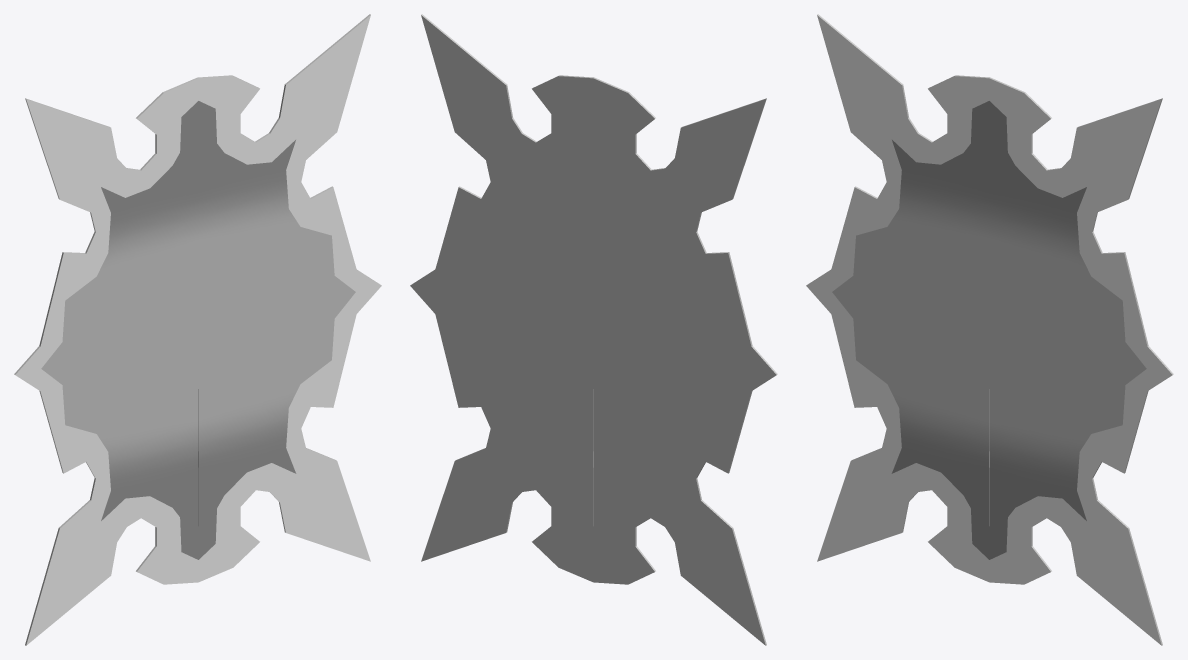
Rendered from thejoker.obj.
3 renders of one model, left to right at view 1: azimuth 30°, elevation 25°; view 2: azimuth 150°, elevation 25°; view 3: azimuth 330°, elevation 25°, orthographic.
Size of the model in its own units: 89.85 by 128 by 0.5.
